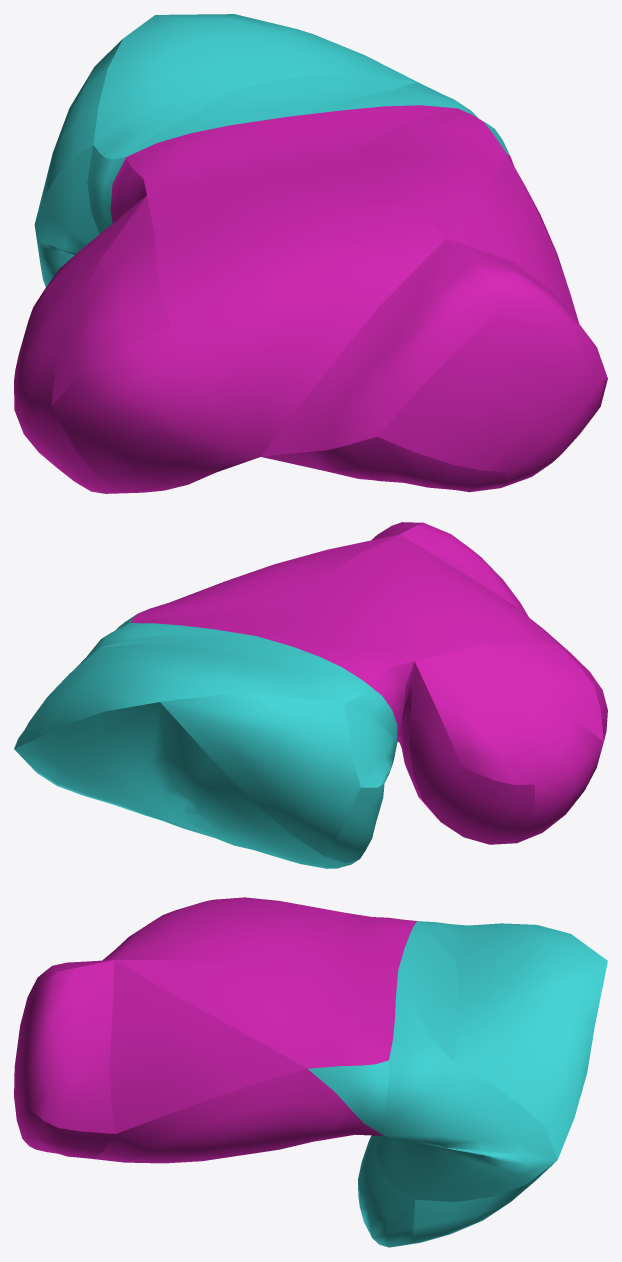
Rendered from fist_final_right.fbx.
3 views of the same model, one above another, from view 1: azimuth 30°, elevation 25°; view 2: azimuth 150°, elevation 25°; view 3: azimuth 270°, elevation 25° (orthographic). The views are drawn at different scales.
Parts seen in each view (by area): view 1: polygon1; view 2: polygon1; view 3: polygon1.
Boxes of the visible parts, x1=… form: polygon1: x1=14, y1=14, x2=607, y2=493; polygon1: x1=14, y1=522, x2=607, y2=868; polygon1: x1=14, y1=897, x2=607, y2=1247.
Bounding box in the file's own units: 204 × 107 × 226.
